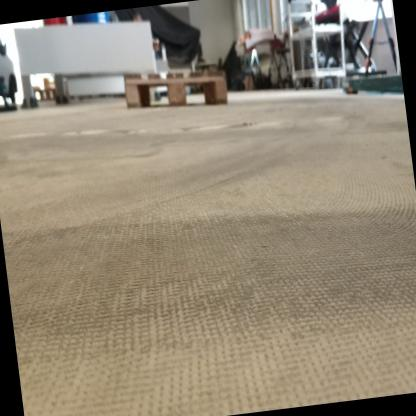BoxFace: (122, 67, 233, 114)
